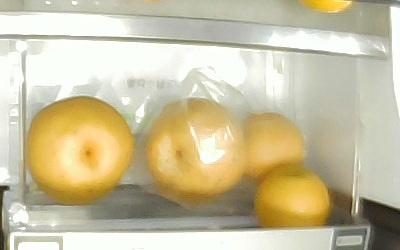pear: (24, 95, 133, 203), (255, 163, 330, 227)
pear_vinyl: (145, 97, 245, 194), (244, 111, 305, 182)
